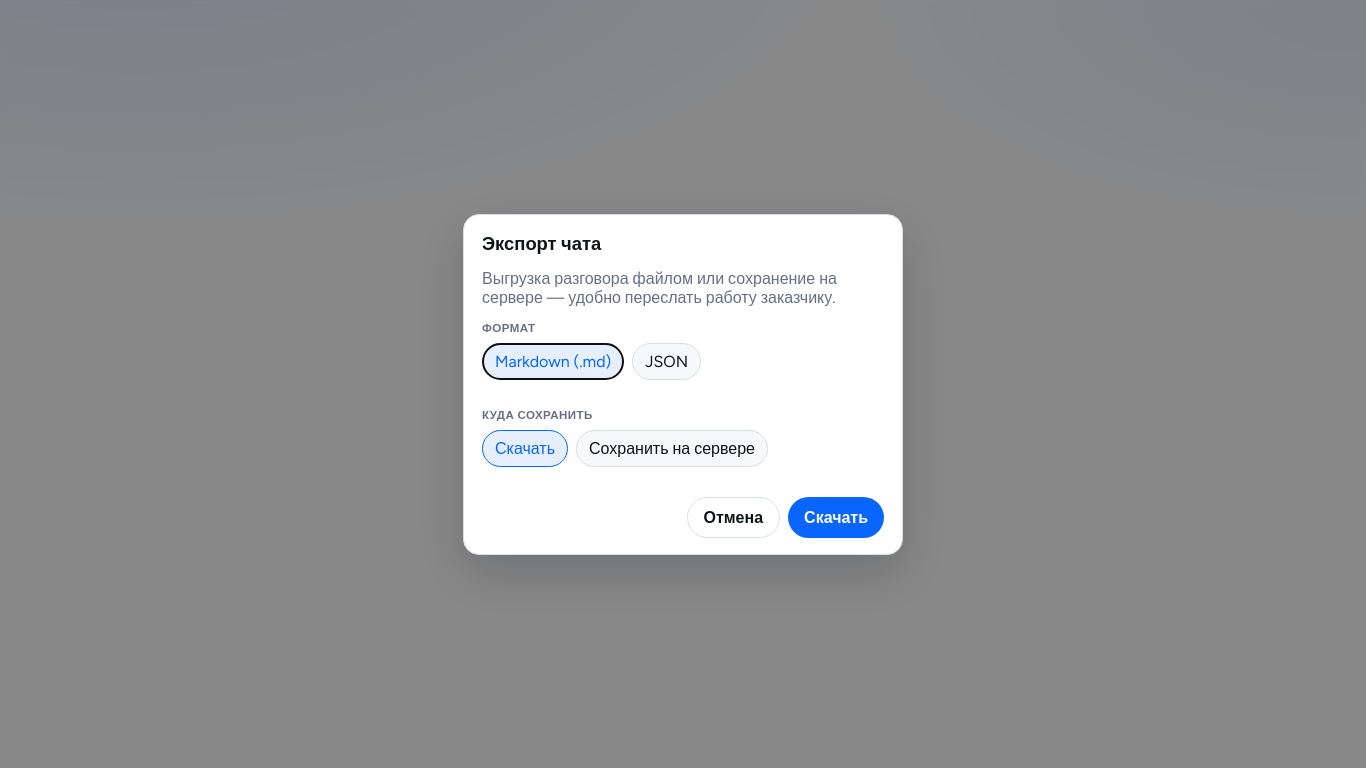
Scenario: ExportDialog › shows the server hint with the default dir when destination is switched to server
Click the radio button labelled "Сохранить на сервере": (672, 448) [576,430,768,466]
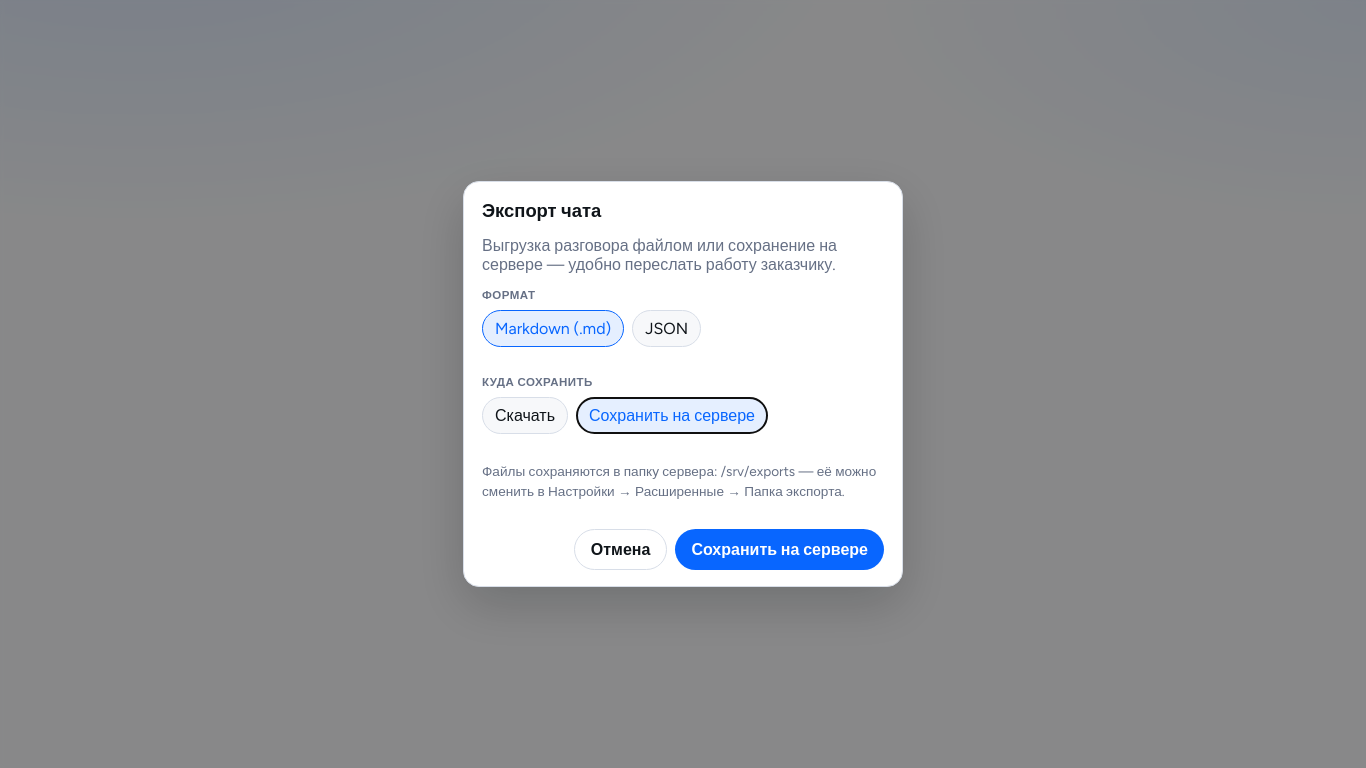
Check: the text "Файлы сохраняются в папку сервера: /srv/exports" is shown, box [482,463,876,498]
